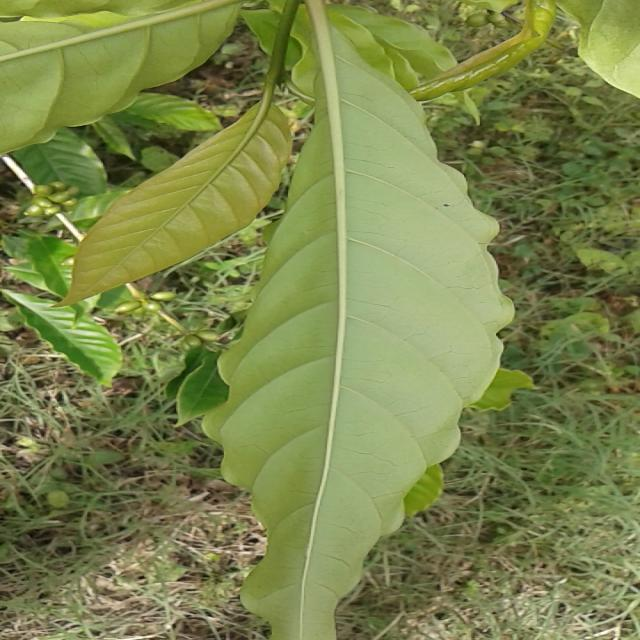Sanas: (178, 0, 516, 640)
